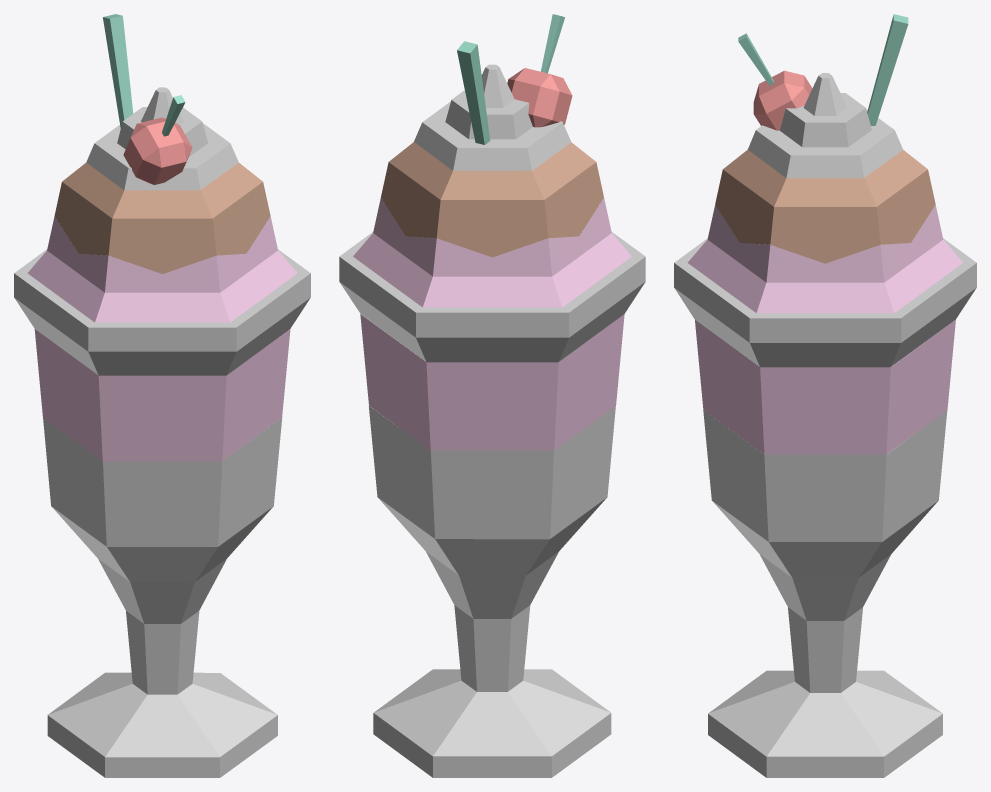
File: sundae.glb
The picture shows the model from 3 angles, left to right: view 1: azimuth 30°, elevation 25°; view 2: azimuth 150°, elevation 25°; view 3: azimuth 270°, elevation 25°; orthographic projection. The views are drawn at different scales.
Visible parts, largest first — view 1: Mesh sundae, cherry, straw; view 2: Mesh sundae, cherry, straw; view 3: Mesh sundae, cherry, straw.
Part boxes in pixels (x1,y1,x2,y2): Mesh sundae: (14, 87, 310, 777); cherry: (123, 95, 192, 184); straw: (103, 14, 133, 128); Mesh sundae: (339, 64, 645, 777); cherry: (507, 14, 572, 127); straw: (457, 41, 490, 144); Mesh sundae: (674, 73, 976, 777); cherry: (738, 33, 812, 130); straw: (867, 14, 908, 125).
Size of the model in its own units: 0.2231 by 0.6679 by 0.2576.
